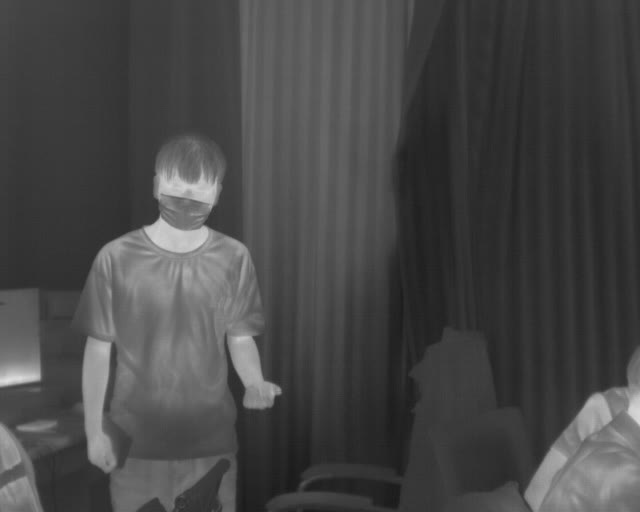face: (152, 133, 226, 233)
